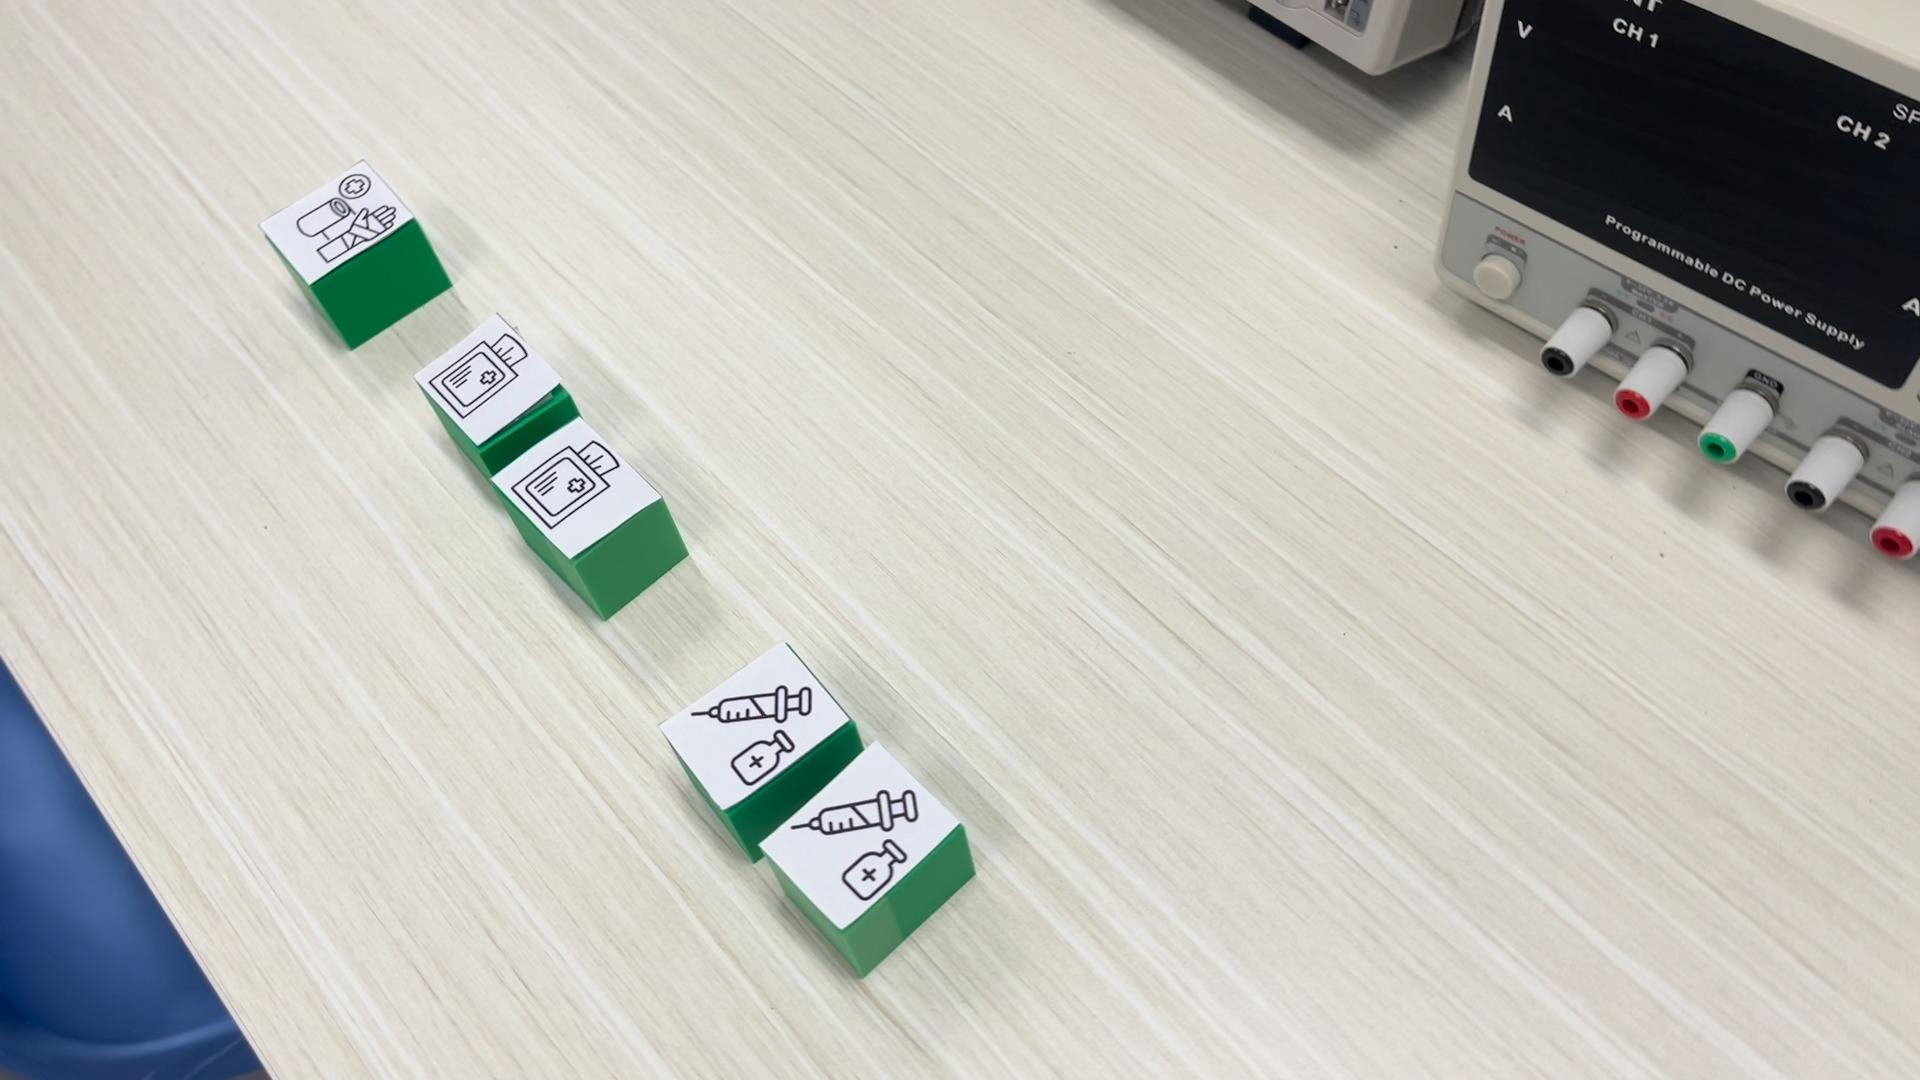Bandages: (257, 160, 452, 349)
Gauze: (488, 417, 696, 617), (417, 315, 572, 446)
antiseptic cream: (758, 737, 977, 977), (655, 637, 848, 808)
